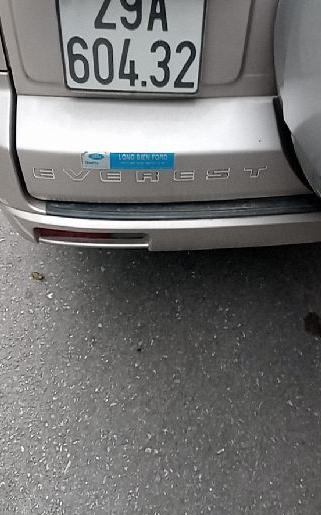Plate-iWeP: (52, 0, 207, 97)
